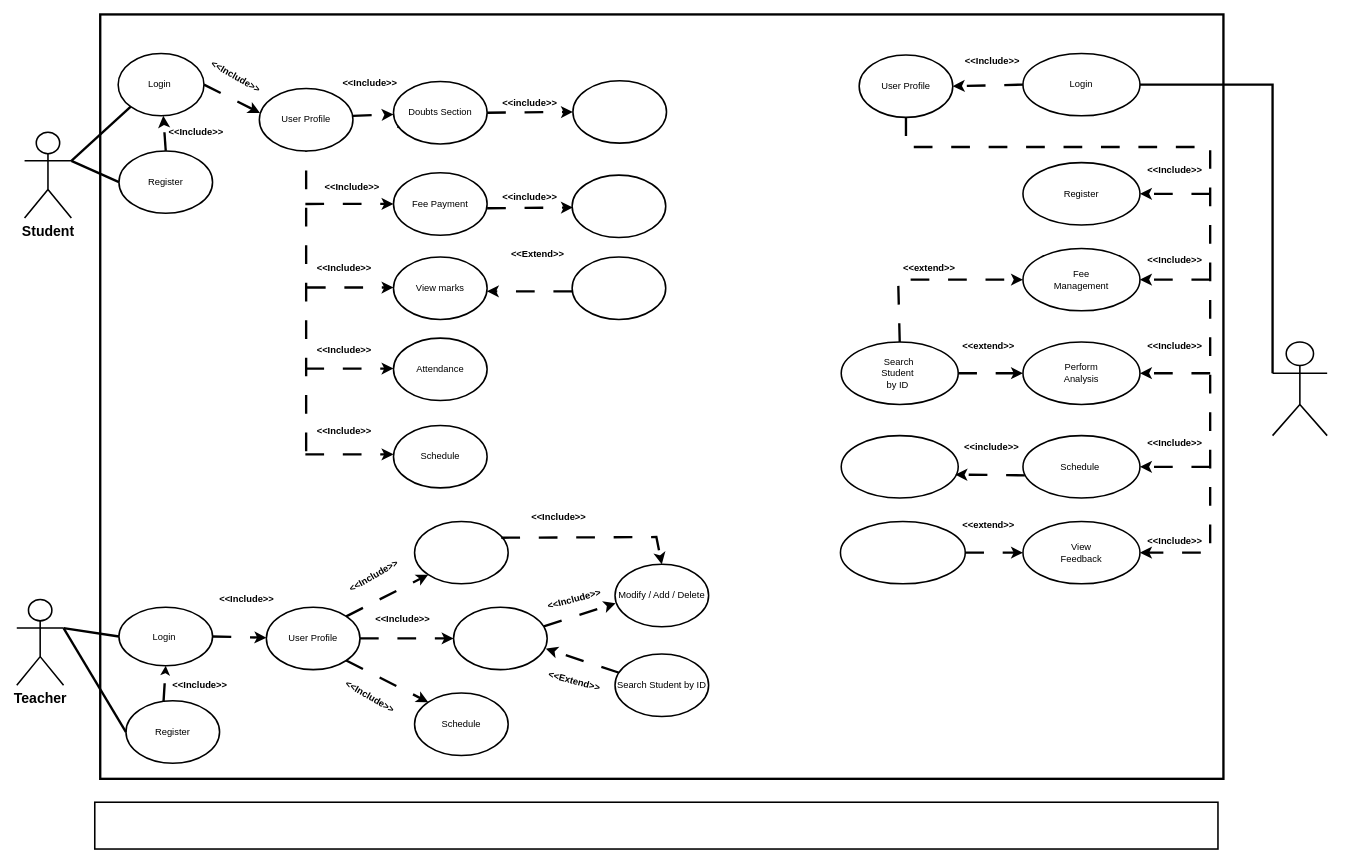
Image size: 1356x863. Some labels were removed from this diagram. Here are the shapes that lost their labels. From the top down, the box of each, then its label:
(572, 80, 667, 144): GMails
(571, 174, 666, 238): Gateway
(571, 256, 666, 320): Filter
(1271, 341, 1328, 436): Management
(840, 434, 959, 498): Modify/ Delete
(413, 520, 509, 584): Attendence
(839, 520, 966, 584): By Teacher name
(452, 606, 548, 670): Exam Marks
(94, 801, 1218, 849): Use case diagram of Enterprise Resource Planning
